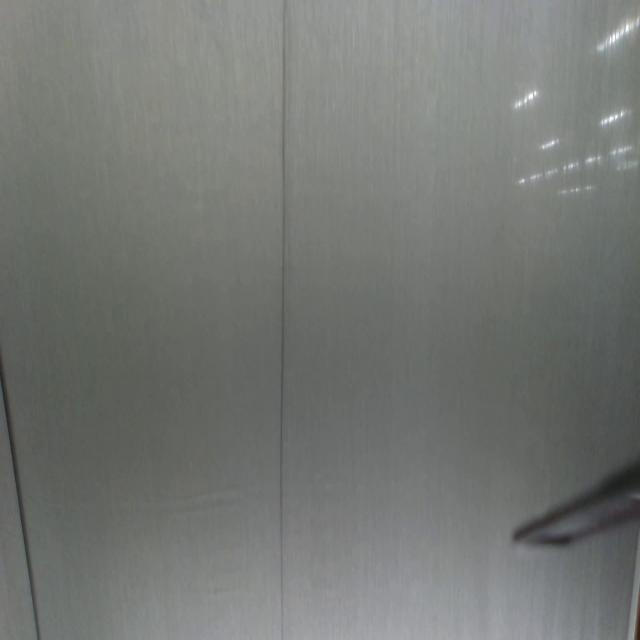crease: (0, 358, 42, 640), (276, 1, 288, 640)
